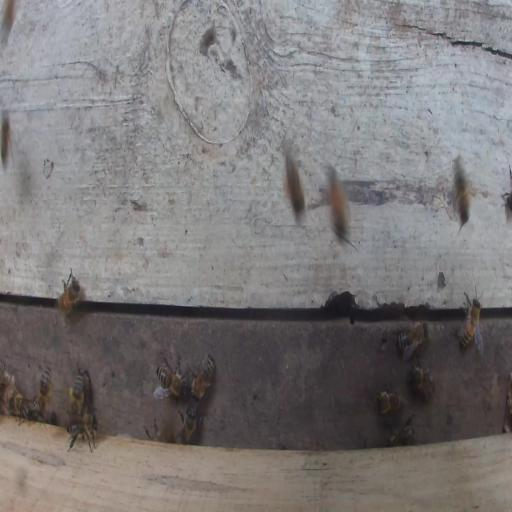bee: (321, 165, 350, 238), (457, 285, 483, 350), (283, 150, 305, 218), (453, 157, 473, 230), (393, 320, 429, 360), (55, 266, 81, 318), (66, 411, 98, 453), (190, 353, 214, 402), (156, 360, 186, 398), (407, 364, 435, 402), (176, 401, 199, 444), (387, 417, 416, 447), (374, 388, 403, 415), (38, 366, 53, 417), (10, 393, 32, 425), (1, 112, 13, 169), (69, 374, 84, 417), (144, 418, 162, 441), (83, 371, 90, 405)
